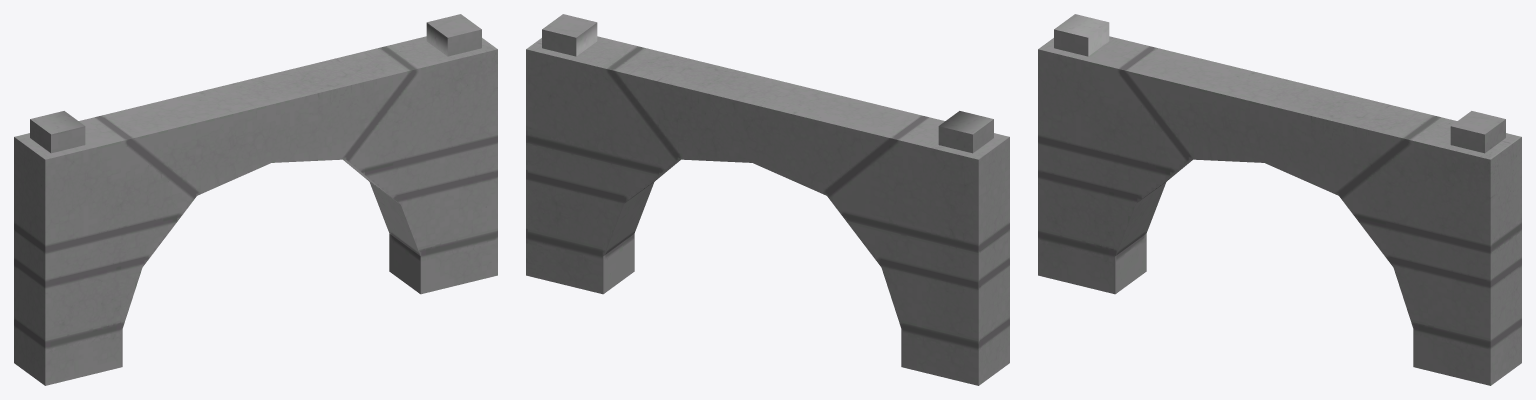
The model's file is TrackSupport.fbx.
The picture shows the model from 3 angles, left to right: view 1: azimuth 30°, elevation 25°; view 2: azimuth 150°, elevation 25°; view 3: azimuth 330°, elevation 25°; orthographic projection.
Visible parts, largest first — view 1: Cube.013; view 2: Cube.013; view 3: Cube.013.
Part boxes in pixels (x1,y1,x2,y2): Cube.013: (14, 14, 497, 385); Cube.013: (526, 14, 1009, 385); Cube.013: (1038, 14, 1521, 385).
Size of the model in its own units: 251 by 130 by 30.
